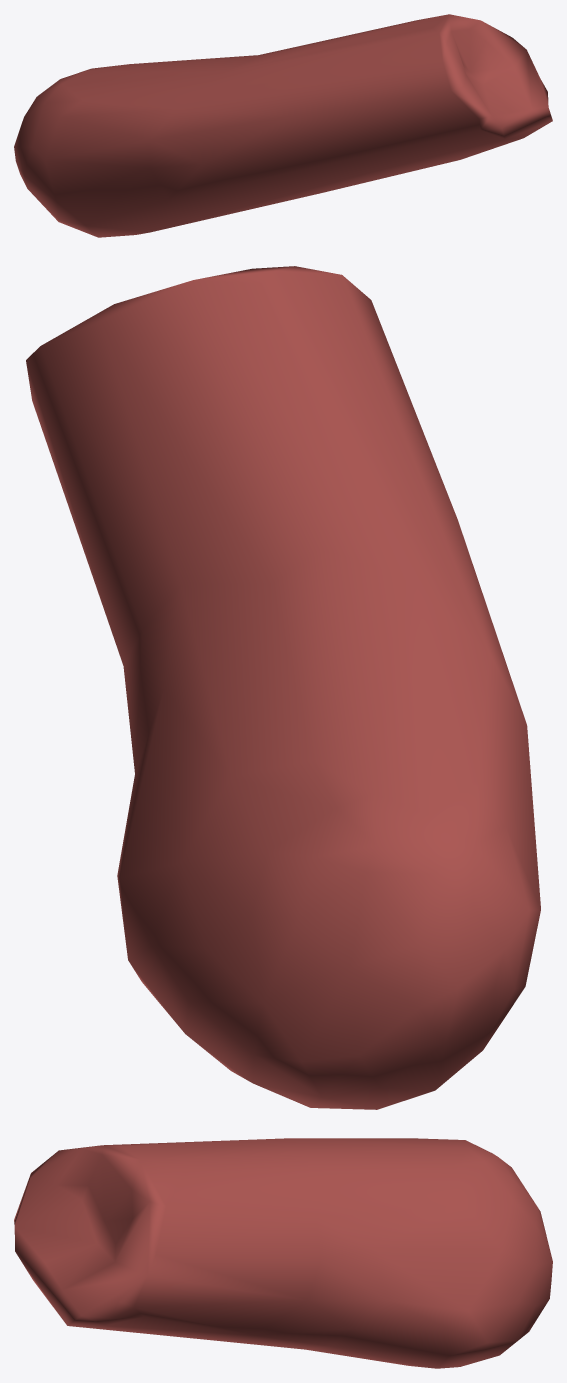
The model's file is FMA14768.glb.
The picture shows the model from 3 angles, top to bottom: view 1: azimuth 30°, elevation 25°; view 2: azimuth 150°, elevation 25°; view 3: azimuth 270°, elevation 25°; orthographic projection. The views are drawn at different scales.
Parts seen in each view (by area): view 1: FMA14768; view 2: FMA14768; view 3: FMA14768.
Boxes of the visible parts, x1,y1,x2,y2 form: FMA14768: (14, 14, 552, 237); FMA14768: (26, 266, 540, 1109); FMA14768: (14, 1138, 552, 1368).
Bounding box in the file's own units: 0.0124 × 0.00813 × 0.0126.
